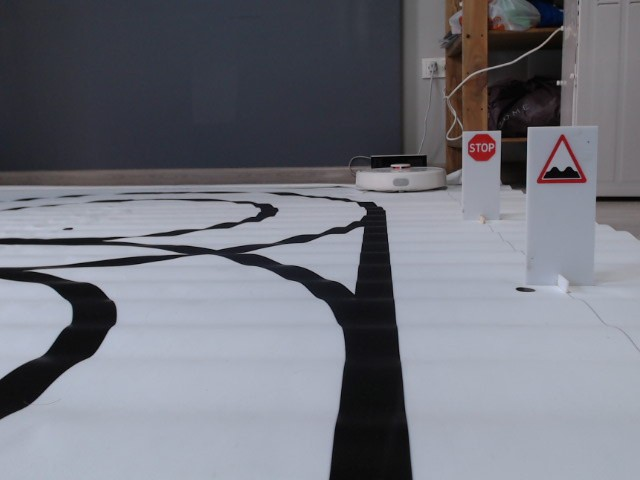Nerov: (534, 134, 587, 185)
Stop: (467, 132, 496, 164)
